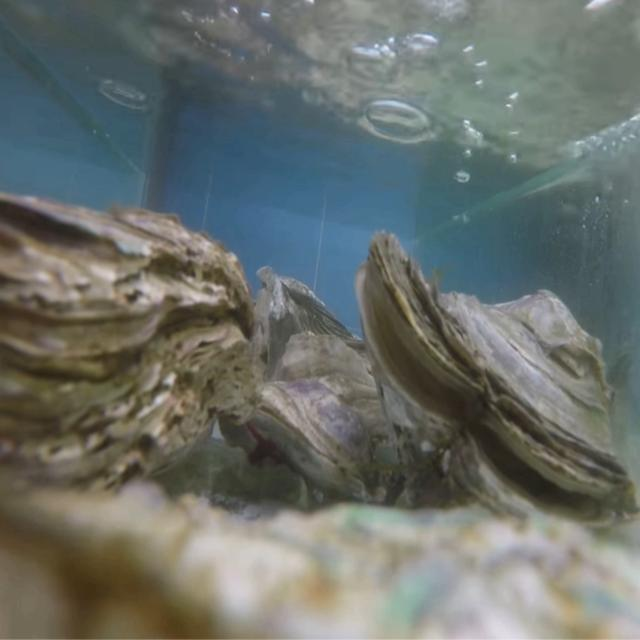Oyster-Closed: (0, 194, 256, 517), (247, 333, 412, 505)
Oyster-Indeterminate: (0, 479, 640, 640), (254, 266, 370, 383)
Oyster-Open: (354, 231, 640, 539)
